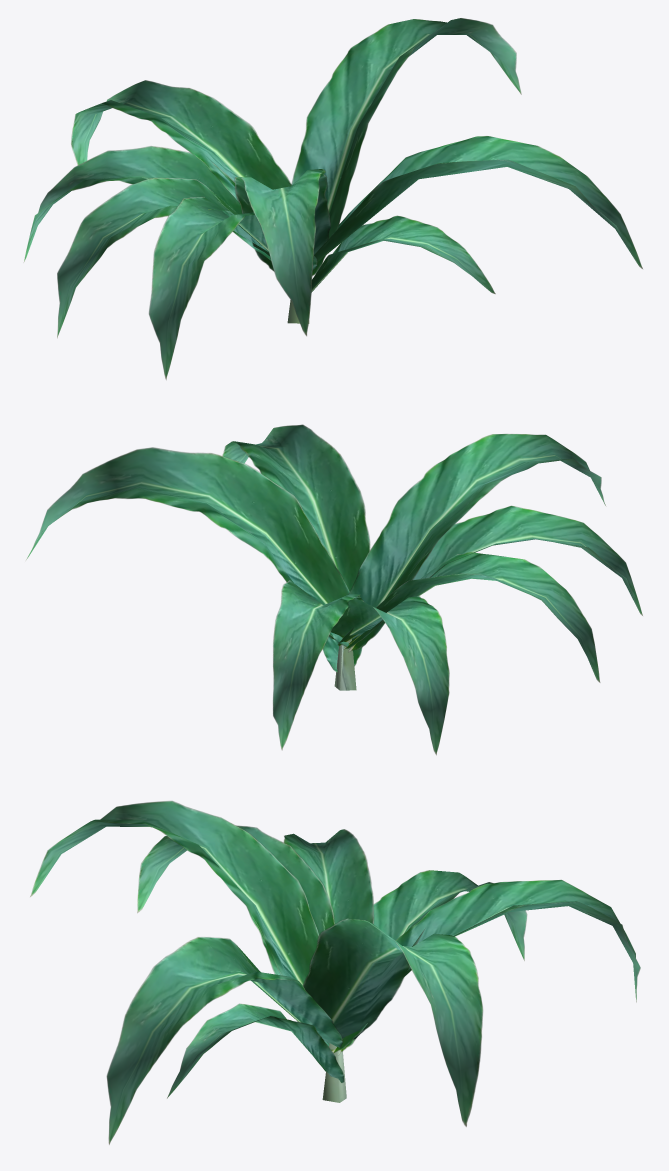
The model's file is kecombrang_02_A_001.glb.
3 renders of one model, top to bottom at view 1: azimuth 30°, elevation 25°; view 2: azimuth 150°, elevation 25°; view 3: azimuth 270°, elevation 25°, orthographic. The views are drawn at different scales.
Parts seen in each view (by area): view 1: kecombrang_02_A.001; view 2: kecombrang_02_A.001; view 3: kecombrang_02_A.001.
Part boxes in pixels (x1=…): kecombrang_02_A.001: x1=23, y1=18, x2=642, y2=379; kecombrang_02_A.001: x1=26, y1=424, x2=642, y2=755; kecombrang_02_A.001: x1=30, y1=801, x2=640, y2=1144.
Bounding box in the file's own units: 2.52 × 1.01 × 2.31.
3 materials, 3 textured.
